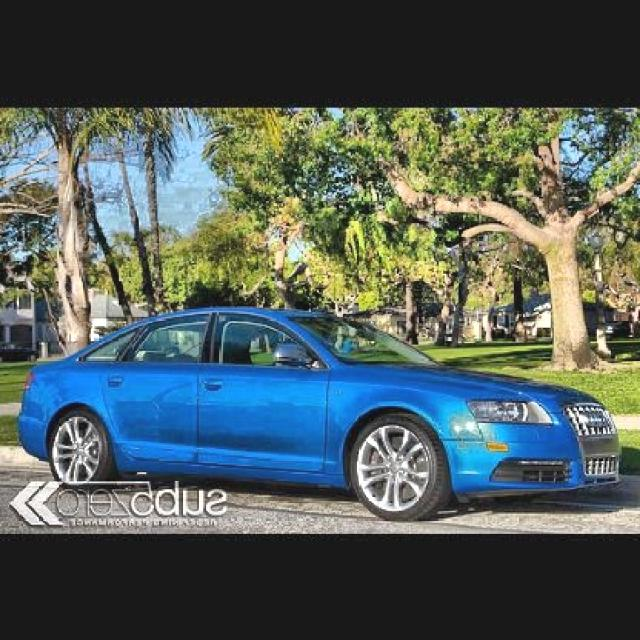blue: (0, 290, 617, 501)
